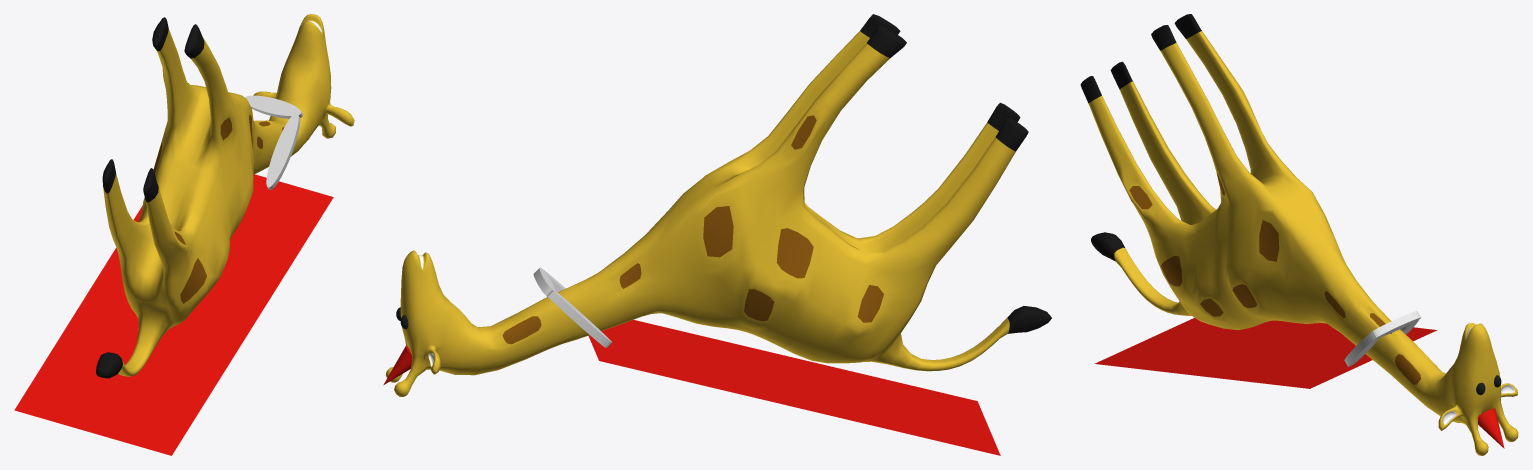
File: supergiraffe5.glb
3 renders of one model, left to right at view 1: azimuth 30°, elevation 25°; view 2: azimuth 150°, elevation 25°; view 3: azimuth 270°, elevation 25°, orthographic. The views are drawn at different scales.
Visible parts, largest first — view 1: Plane.001, Cube.001, Cylinder.002, Cylinder; view 2: Plane.001, Cube.001, Cylinder.001; view 3: Plane.001, Cube.001, Cylinder, Cone.002, Cylinder.002.
Part boxes in pixels (x1,y1,x2,y2): Plane.001: (96, 14, 354, 378); Cube.001: (14, 174, 333, 455); Cylinder.002: (266, 112, 300, 189); Cylinder: (245, 95, 302, 118); Plane.001: (385, 14, 1051, 396); Cube.001: (588, 320, 1000, 455); Cylinder.001: (548, 288, 611, 347); Plane.001: (1080, 14, 1518, 455); Cube.001: (1094, 318, 1437, 388); Cylinder: (1371, 311, 1420, 338); Cone.002: (1478, 408, 1504, 448); Cylinder.002: (1344, 332, 1378, 366).
Size of the model in its own units: 2.16 by 1.76 by 1.89.
